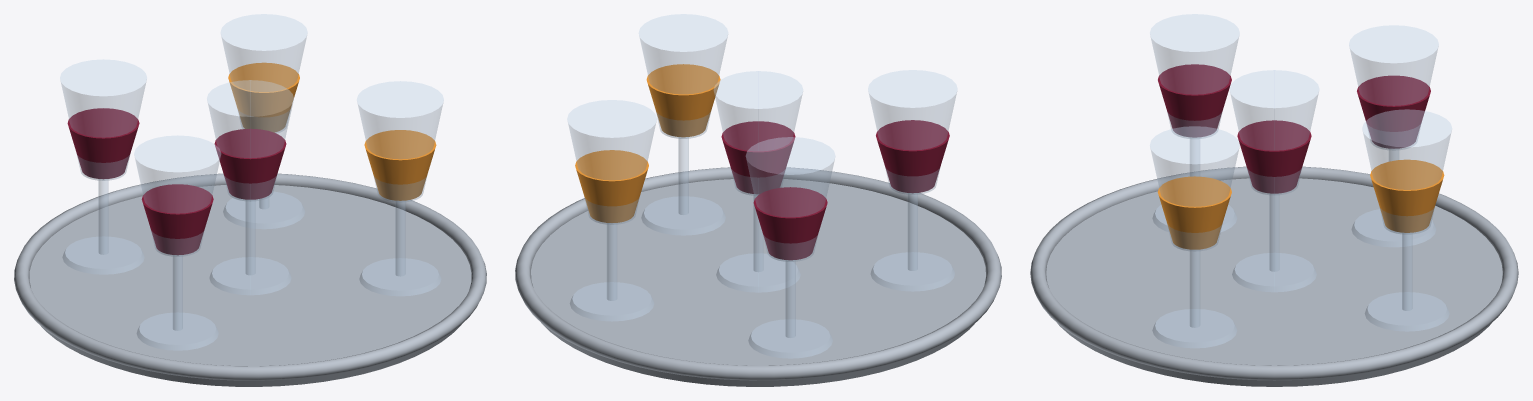
File: trayGlasses.glb
The picture shows the model from 3 angles, left to right: view 1: azimuth 30°, elevation 25°; view 2: azimuth 150°, elevation 25°; view 3: azimuth 270°, elevation 25°; orthographic projection. The views are drawn at different scales.
Visible parts, largest first — view 1: tray, tray-glasses, glass0, glass4, glass1, glass2, glass3, drink4, drink2, drink1, drink0, drink3; view 2: tray, tray-glasses, glass4, glass1, glass3, glass2, glass0, drink2, drink4, drink3, drink1, drink0; view 3: tray, tray-glasses, glass3, glass0, glass1, glass4, glass2, drink0, drink1, drink2, drink3, drink4.
Boxes of the visible parts, left/top/right/bottom form: tray: left=29, top=185, right=471, bottom=386; tray-glasses: left=14, top=173, right=486, bottom=380; glass0: left=207, top=80, right=293, bottom=295; glass4: left=60, top=59, right=146, bottom=274; glass1: left=357, top=81, right=443, bottom=295; glass2: left=134, top=135, right=220, bottom=350; glass3: left=220, top=14, right=307, bottom=228; drink4: left=67, top=108, right=139, bottom=179; drink2: left=141, top=184, right=213, bottom=255; drink1: left=364, top=130, right=436, bottom=200; drink0: left=214, top=128, right=286, bottom=199; drink3: left=228, top=62, right=299, bottom=132; tray: left=531, top=179, right=985, bottom=386; tray-glasses: left=515, top=167, right=1001, bottom=380; glass4: left=746, top=137, right=835, bottom=358; glass1: left=639, top=14, right=728, bottom=235; glass3: left=567, top=100, right=656, bottom=321; glass2: left=868, top=70, right=957, bottom=291; glass0: left=714, top=71, right=802, bottom=292; drink2: left=876, top=120, right=949, bottom=193; drink4: left=753, top=187, right=827, bottom=260; drink3: left=575, top=150, right=648, bottom=222; drink1: left=646, top=64, right=720, bottom=137; drink0: left=721, top=121, right=795, bottom=193; tray: left=1046, top=178, right=1502, bottom=386; tray-glasses: left=1030, top=166, right=1518, bottom=380; glass3: left=1362, top=109, right=1451, bottom=331; glass0: left=1229, top=70, right=1319, bottom=292; glass1: left=1150, top=126, right=1239, bottom=347; glass4: left=1349, top=25, right=1438, bottom=246; glass2: left=1150, top=14, right=1239, bottom=231; drink0: left=1237, top=120, right=1311, bottom=193; drink1: left=1157, top=176, right=1231, bottom=249; drink2: left=1158, top=64, right=1231, bottom=137; drink3: left=1370, top=159, right=1444, bottom=232; drink4: left=1357, top=75, right=1430, bottom=148.
Bounding box in the file's own units: 0.368 × 0.166 × 0.368.
